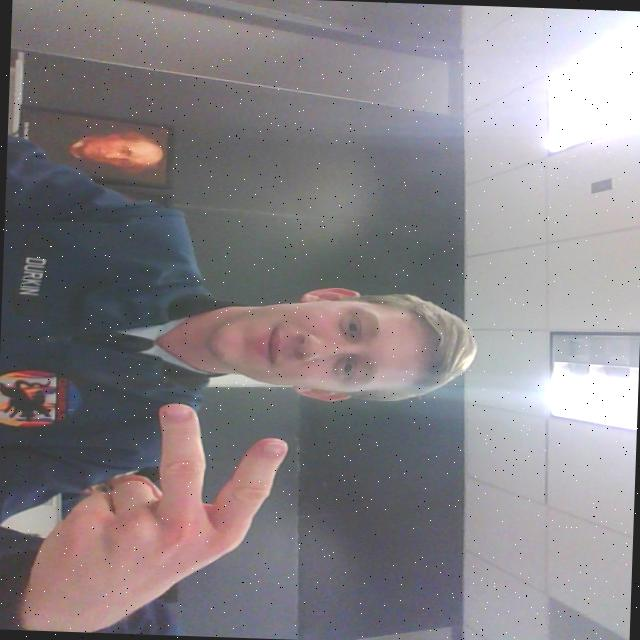scissors: (12, 393, 294, 639)
